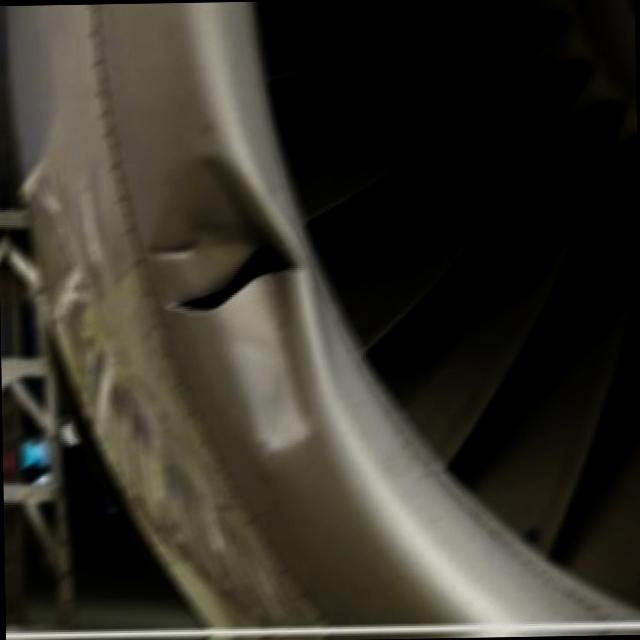crack: (166, 232, 306, 322)
